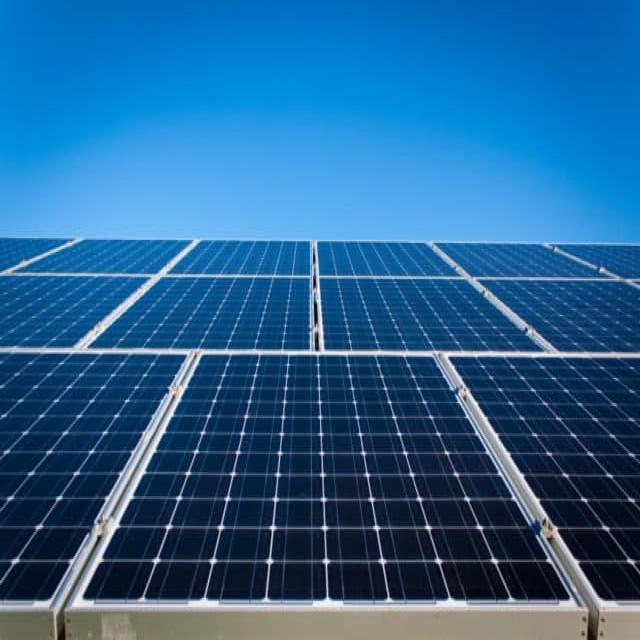clean-solar-panel: (1, 240, 640, 635)
